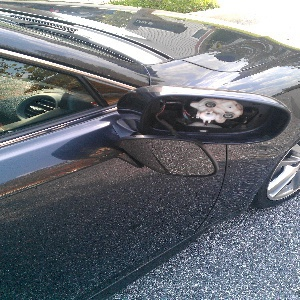side_mirror: (117, 63, 294, 149)
